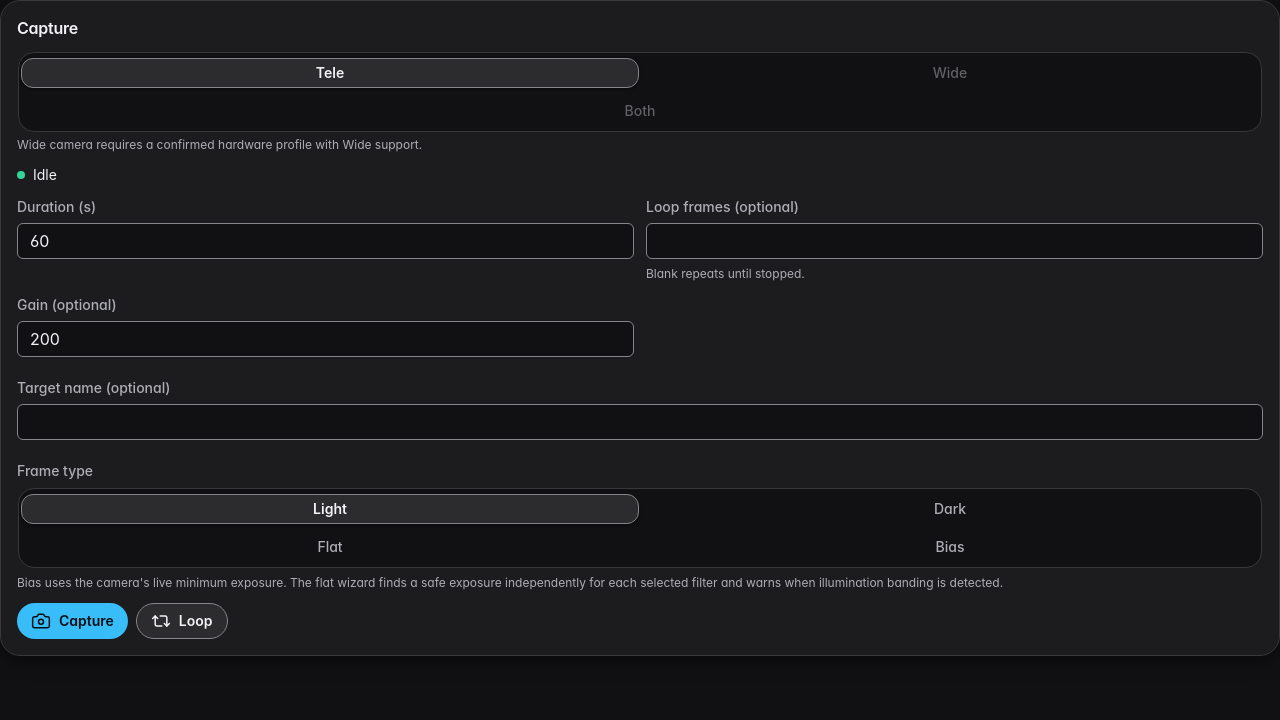
Test case: CapturePanel › stops the loop and shows the server error when a frame cannot start
Click the button "Loop" at (182, 621), box x1=136 y1=603 x2=228 y2=639
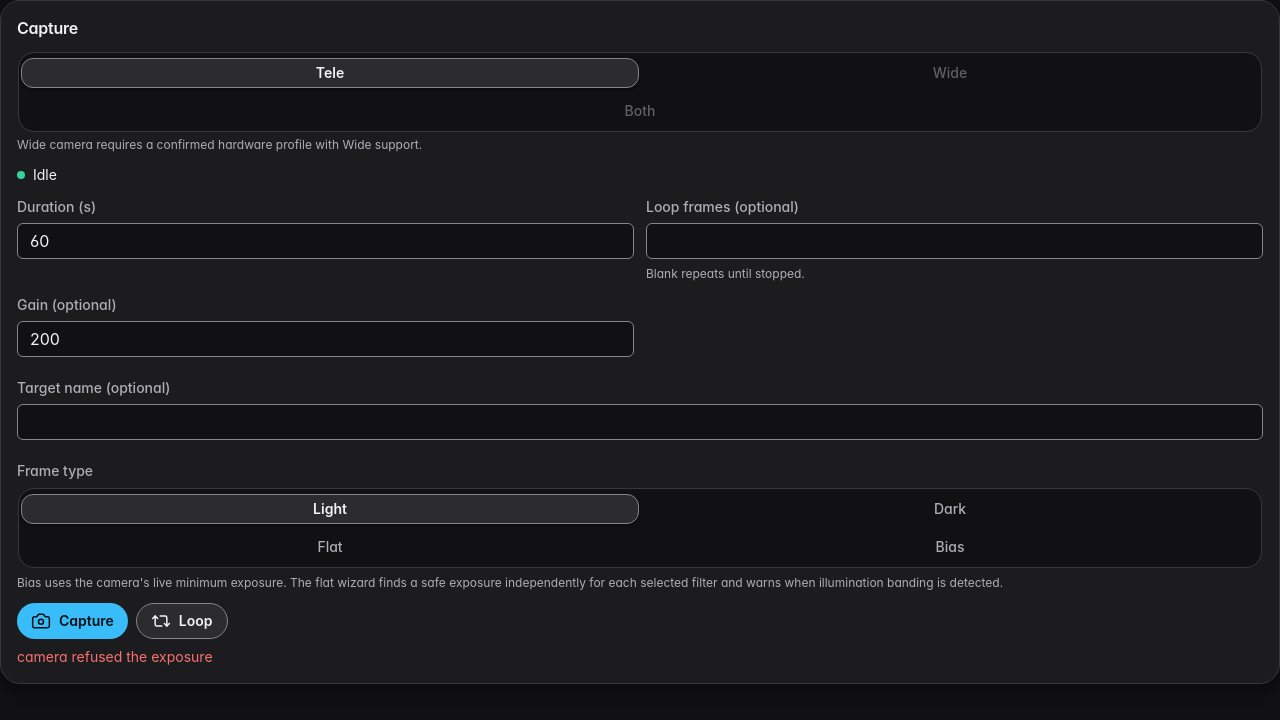
Now the text "camera refused the exposure" is shown, box x1=17 y1=648 x2=213 y2=665
